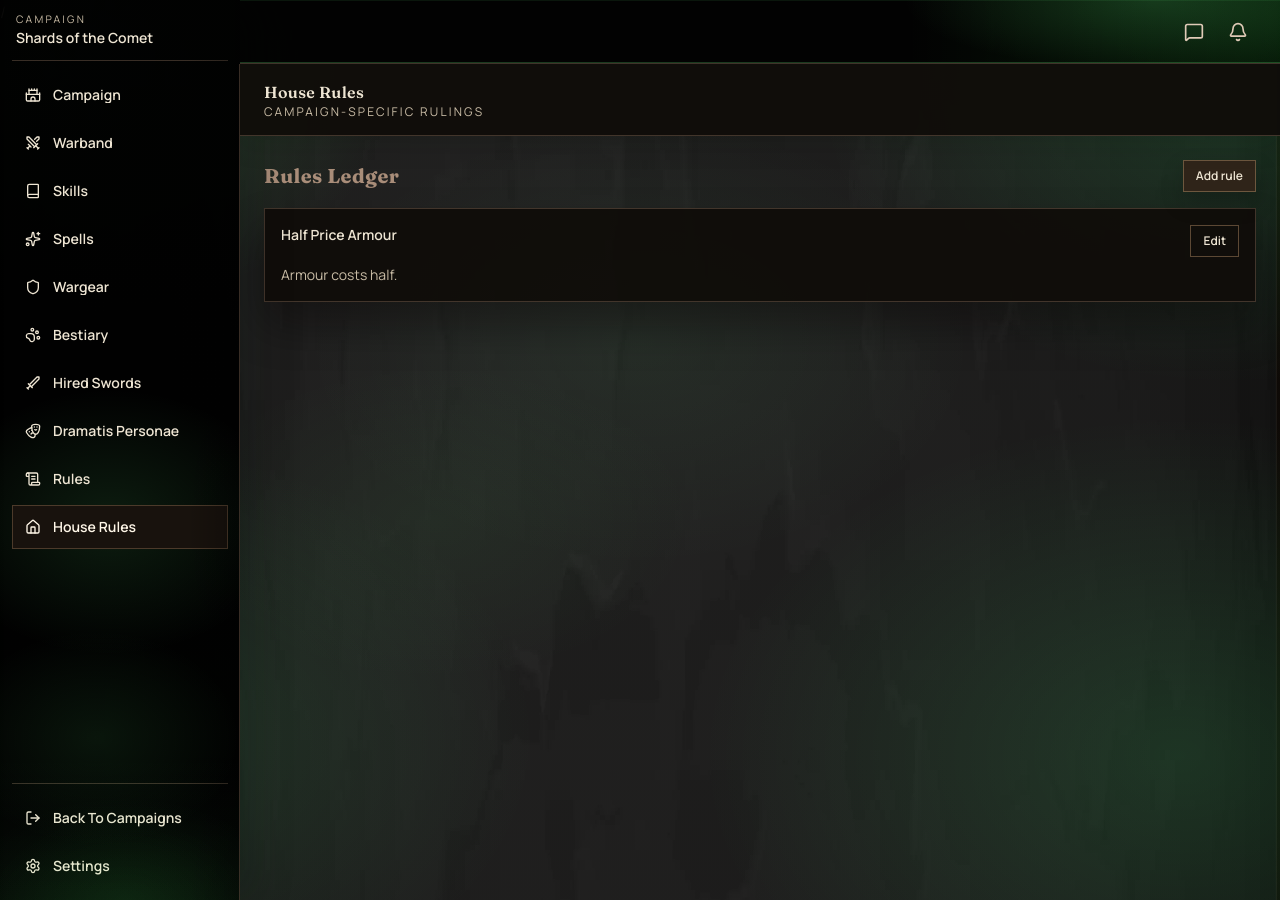
Test: Common Rules › shows the warning an edit of a rule answers with too
The image size is (1280, 900).
Expected: the text "Half Price Armour" is shown, [281, 225, 397, 245]
Click the button "Edit".
click(1215, 241)  # box [1190, 225, 1239, 257]
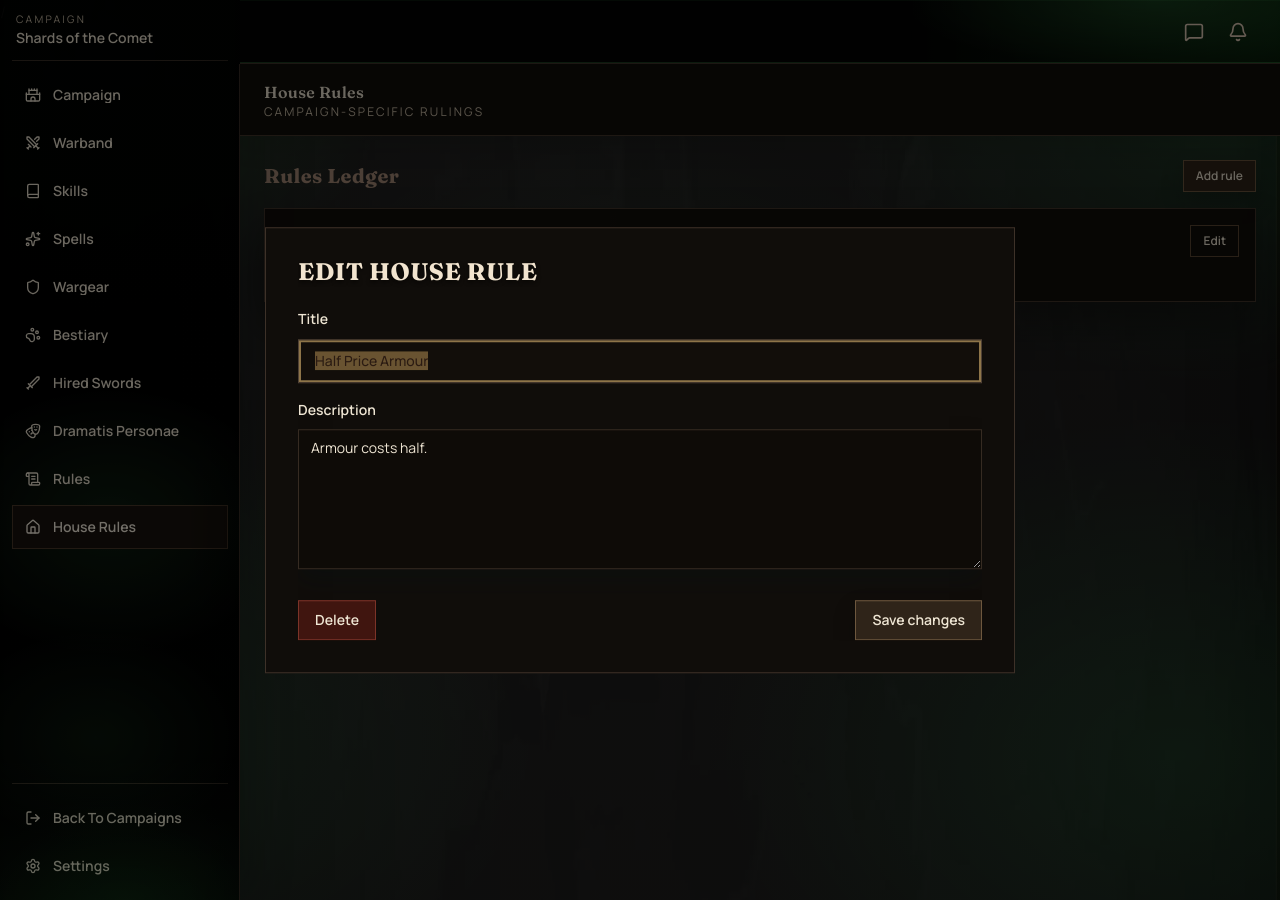
Click the button "Save changes".
click(919, 620)  # box [855, 600, 982, 640]
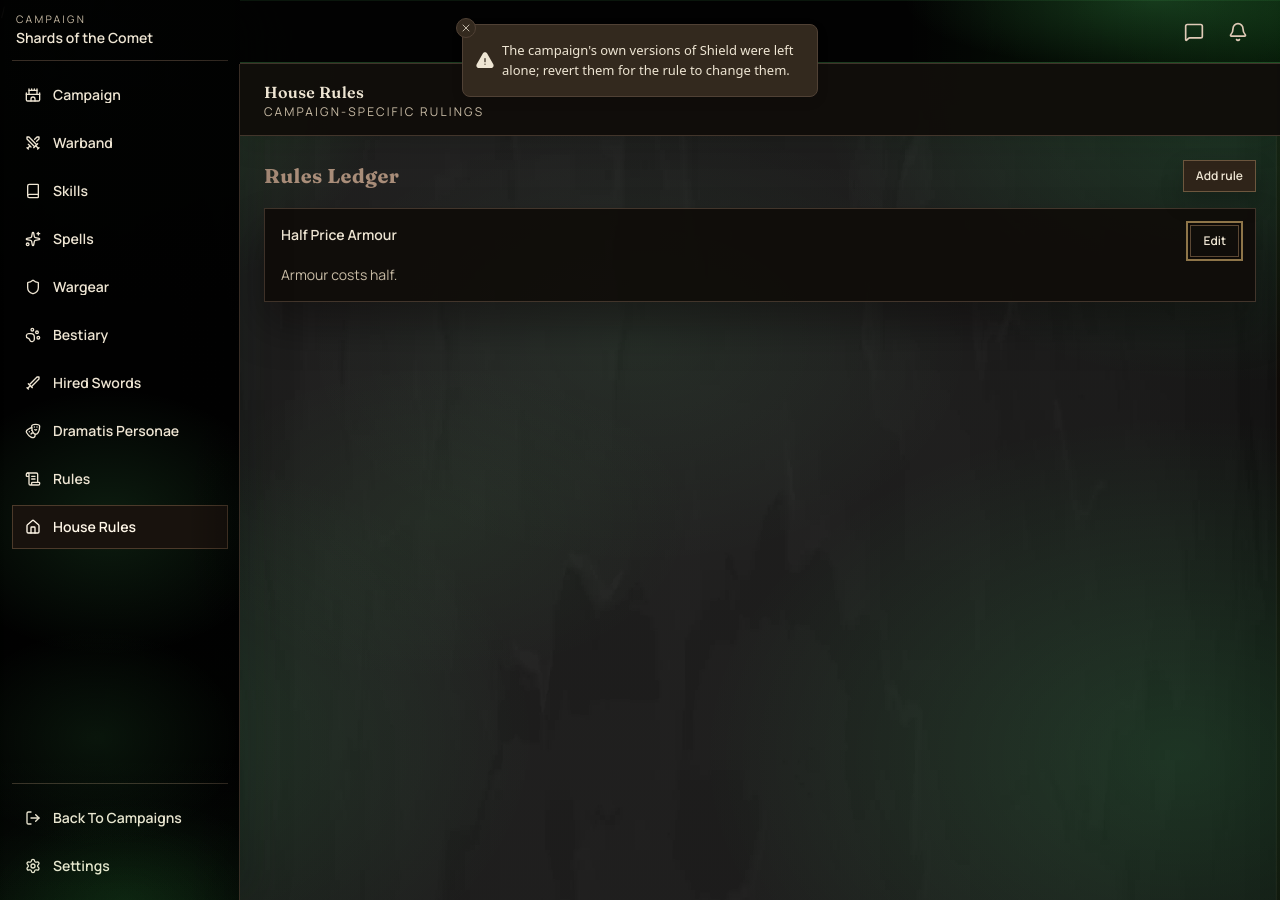
Expected: the text "The campaign's own versions of Shield were left alone; revert them for the rule to change them." is shown, [502, 41, 794, 78]
